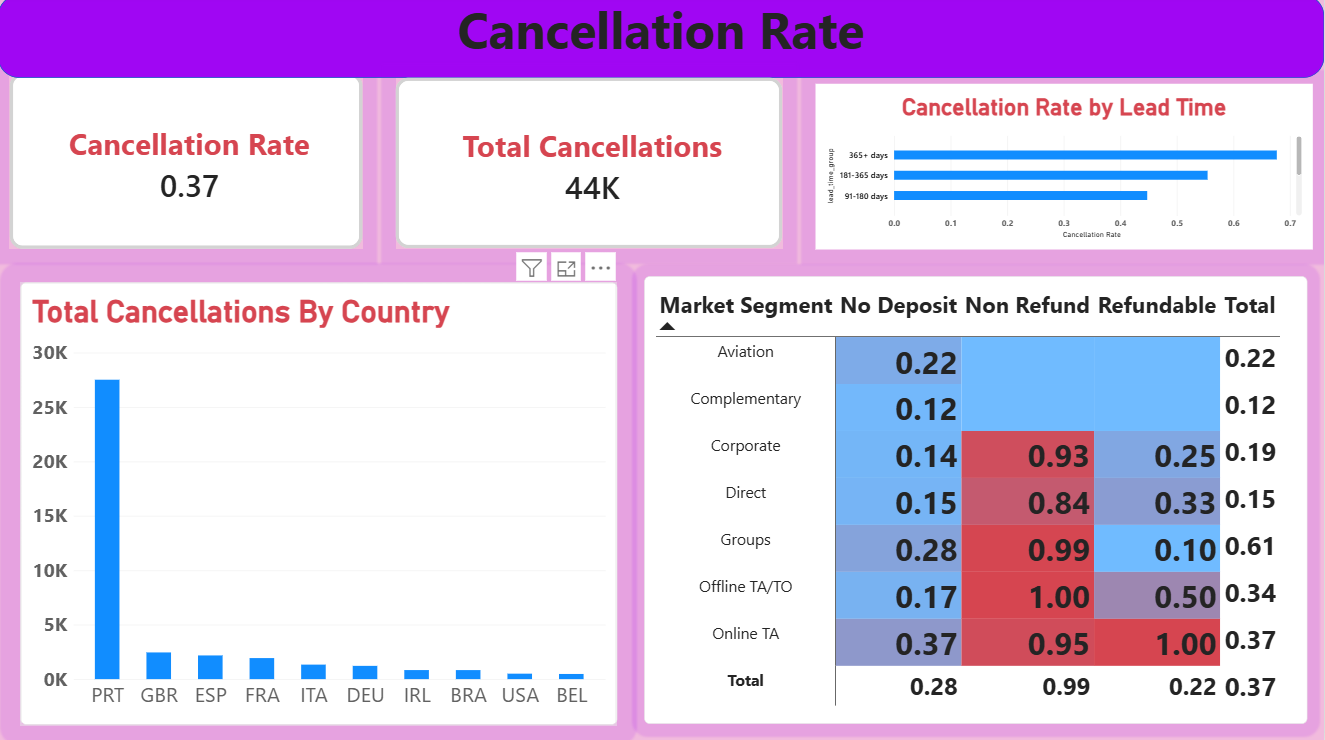

This screenshot's page, from the dashboard's own definition file:
{"tool":"powerbi","page":{"name":"Page 2","canvas":[1920,1080],"ordinal":1},"visuals":[{"type":"cardVisual","fields":{"Data":["_Measures.Cancellation Rate"]},"box":[16,112,512,256],"z":0},{"type":"shape","box":[0,0,1920,120],"z":1000},{"type":"textbox","box":[24,0,1872,120],"z":2000},{"type":"cardVisual","fields":{"Data":["_Measures.Total Cancellations"]},"box":[576,112,560,256],"z":3000},{"type":"barChart","title":"Cancellation Rate by Lead Time","fields":{"Category":["hotel_bookings_cleaned.lead_time_group"],"Y":["_Measures.Cancellation Rate"]},"box":[1184,128,720,240],"z":4000},{"type":"pivotTable","fields":{"Columns":["hotel_bookings_cleaned.deposit_type"],"Rows":["hotel_bookings_cleaned.market_segment"],"Values":["_Measures.Cancellation Rate"]},"box":[936,408,960,648],"z":5000},{"type":"clusteredColumnChart","title":"Total Cancellations By Country","fields":{"Category":["hotel_bookings_cleaned.country"],"Y":["_Measures.Total Cancellations"]},"box":[32,416,864,640],"z":6000}]}

Visuals, with their boxes in screenshot pixels (x1, y1, x2, y2), scaled from the page's 1920x1080 canvas onto the 1325x740 screenshot:
cardVisual - _Measures.Cancellation Rate: bbox=(11, 77, 364, 252)
shape: bbox=(0, 0, 1324, 82)
textbox: bbox=(17, 0, 1308, 82)
cardVisual - _Measures.Total Cancellations: bbox=(398, 77, 784, 252)
"Cancellation Rate by Lead Time" barChart: bbox=(817, 88, 1314, 252)
pivotTable - hotel_bookings_cleaned.deposit_type x hotel_bookings_cleaned.market_segment: bbox=(646, 280, 1308, 724)
"Total Cancellations By Country" clusteredColumnChart: bbox=(22, 285, 618, 724)
